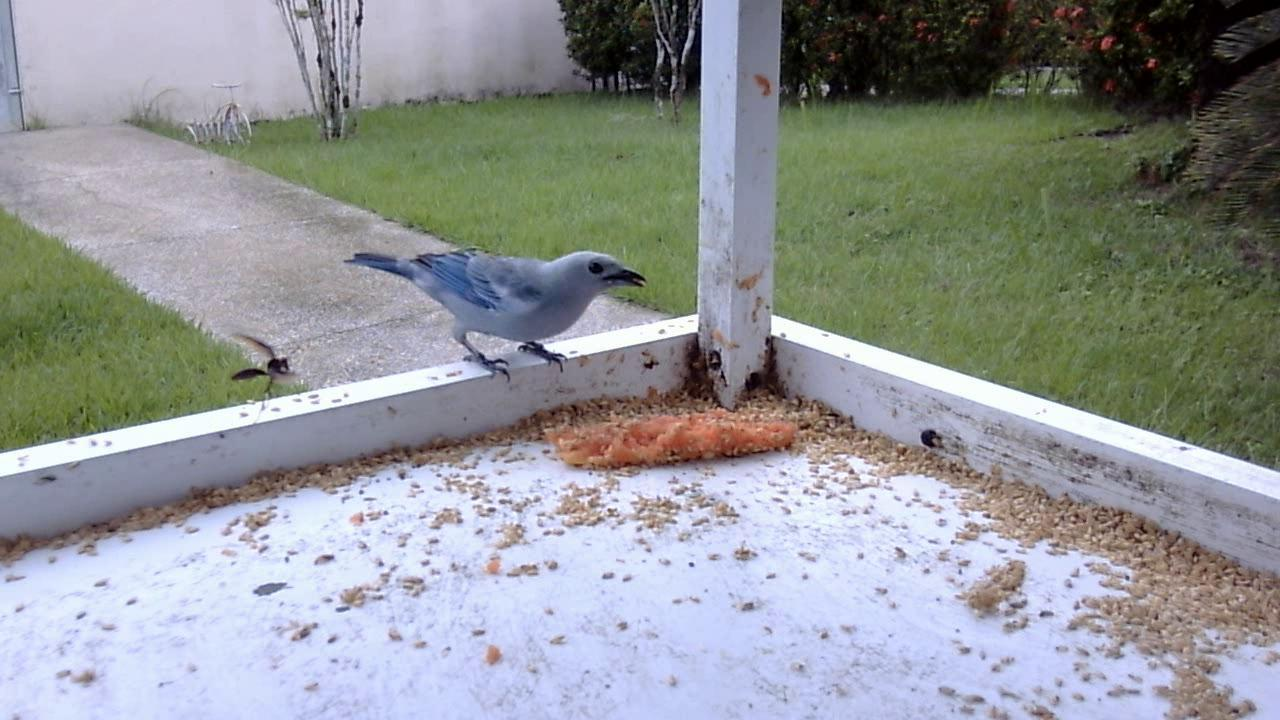sanhaco_da_amazonia: (342, 234, 646, 392)
